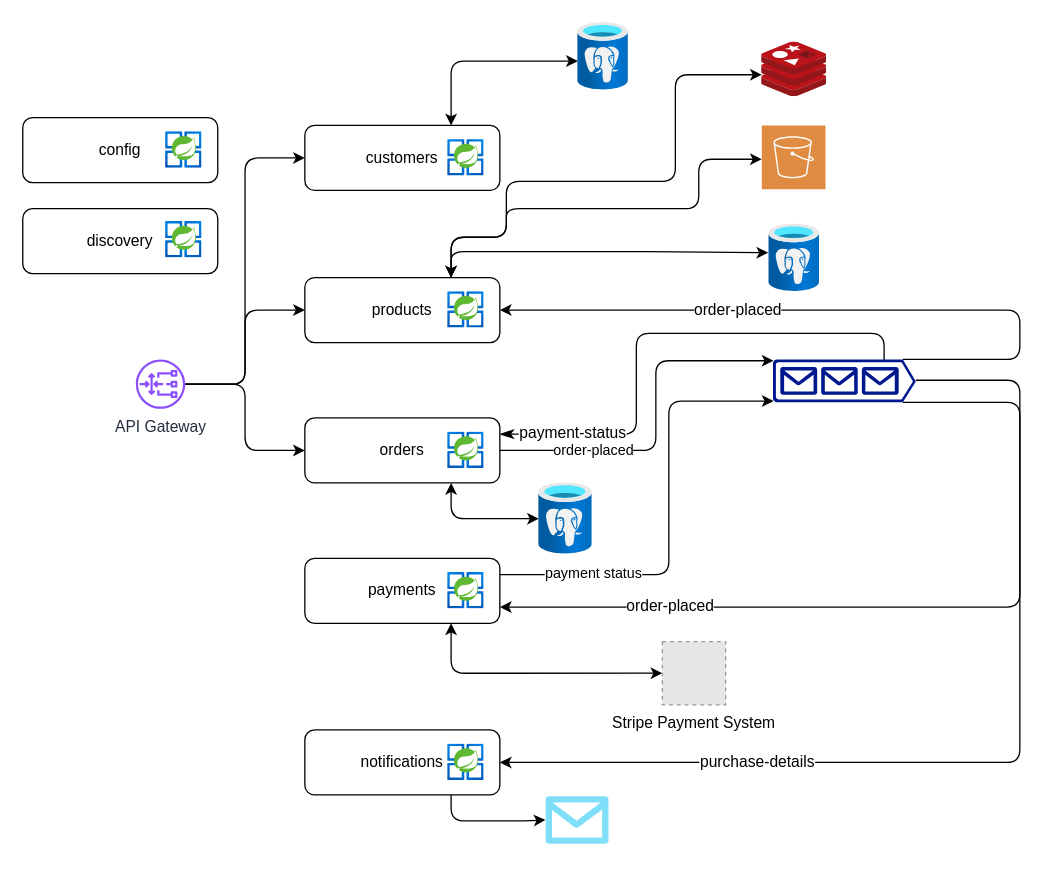
This 1053x893 diagram has some shape labels left out. Grey dashed boxes stand in for pictures. Each missing label, with the centre of its shape:
AWS S3: the point at 793,156
Kafka Event Streamer: the point at 843,380
Redis: the point at 793,69
SMPT: the point at 576,819
